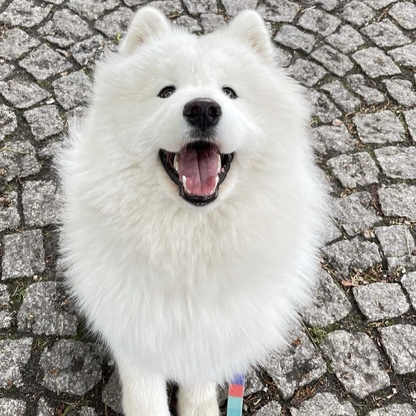samoyed: (52, 1, 329, 416)
